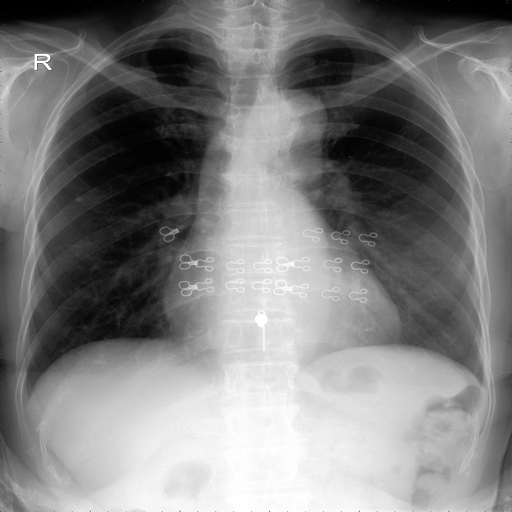Consolidation: (257, 90, 328, 144)
